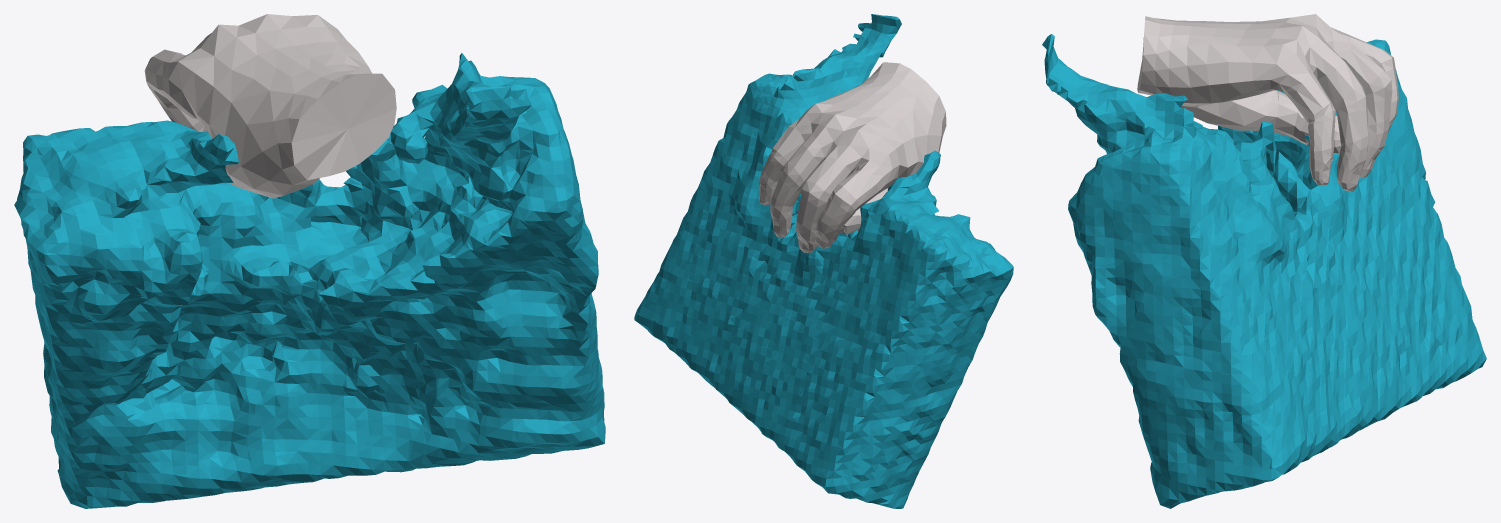
3 views of the same model, side by side, from view 1: azimuth 30°, elevation 25°; view 2: azimuth 150°, elevation 25°; view 3: azimuth 270°, elevation 25° (orthographic). The views are drawn at different scales.
Parts seen in each view (by area): view 1: world; view 2: world; view 3: world.
Part boxes in pixels (<box>): world: <box>14,14,605,508</box>; world: <box>634,14,1013,508</box>; world: <box>1042,14,1486,508</box>.
Size of the model in its own units: 0.2978 by 0.267 by 0.2438.
